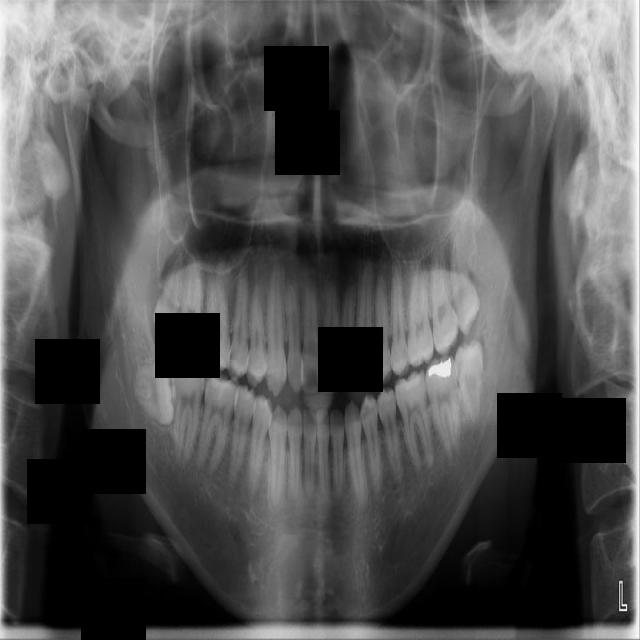3M ESPE Implant: (150, 244, 186, 344)
52: (424, 353, 459, 405)
73: (602, 584, 610, 598)
BioHorizons Implant: (428, 244, 460, 358)
BioLife Implant: (446, 225, 483, 338)
Biomet 3i Implant: (453, 338, 484, 422)
Blue Sky Bio Implant: (424, 353, 460, 456)
Caries: (174, 252, 206, 361)
Implant: (170, 358, 206, 467)
Keystone Dental Implant: (132, 357, 179, 427)
